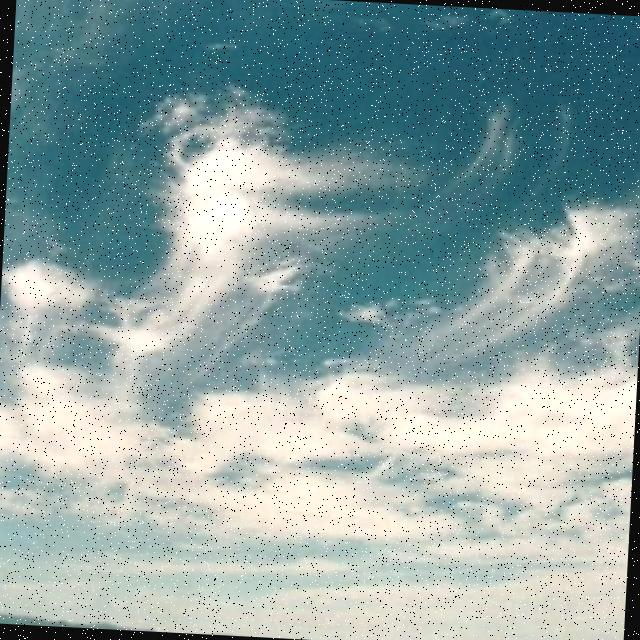Ci: (1, 7, 640, 545)
